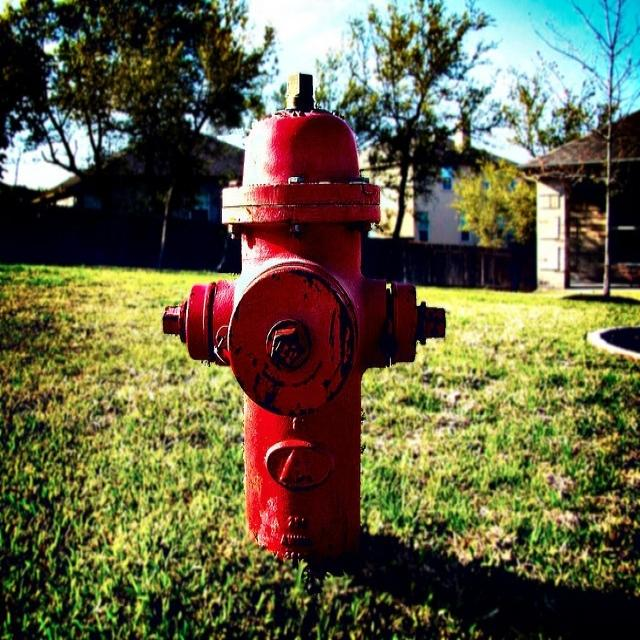fire_hydrant: (182, 116, 404, 567)
